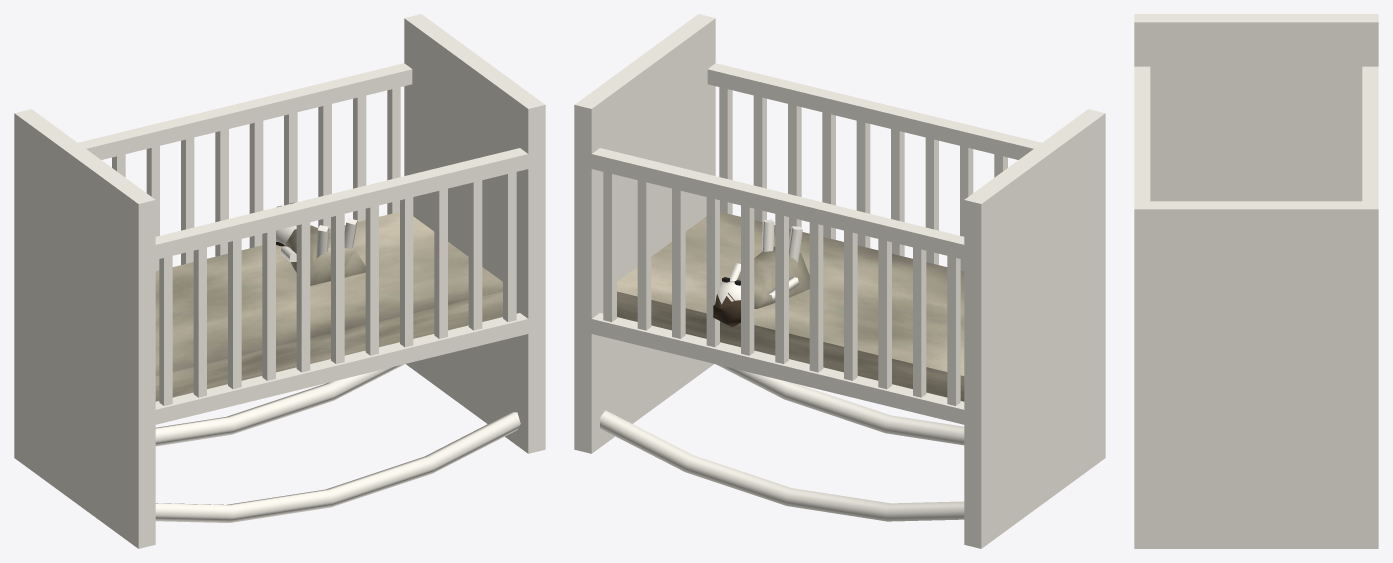
Rendered from crib.glb.
3 views of the same model, side by side, from view 1: azimuth 30°, elevation 25°; view 2: azimuth 150°, elevation 25°; view 3: azimuth 270°, elevation 25° (orthographic).
Visible parts, largest first — view 1: crib; view 2: crib; view 3: crib.
Part boxes in pixels (x1,y1,x2,y2): crib: (14,14,545,548); crib: (574,14,1105,548); crib: (1134,14,1378,548).
Bounding box in the file's own units: 1.42 × 1.2 × 0.7508.
4 materials, 1 textured.
